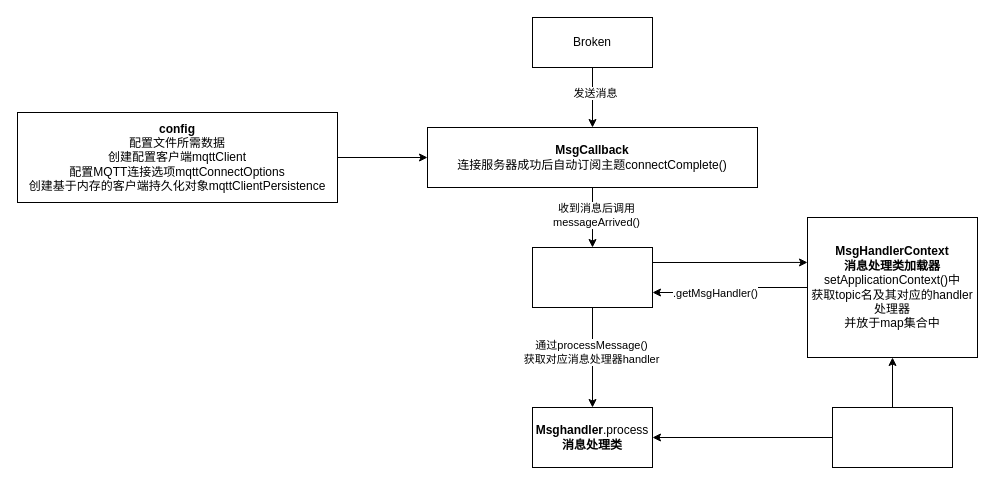
Image size: 995x485. Some labels were removed from this diagram. Each missing label, with the centre of its shape:
@Topic: the point at 892,437
MsgService 消息分发处理器: the point at 592,277
